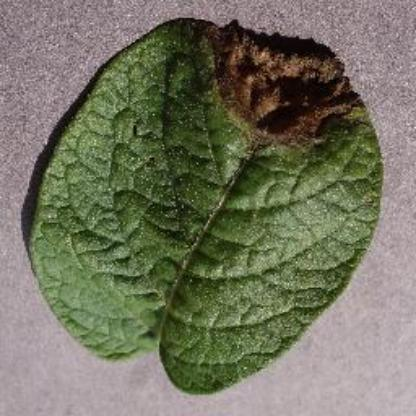Late-Blight: (26, 20, 367, 390)
